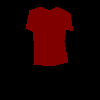abbigliamento_uomo: (25, 6, 73, 66)
